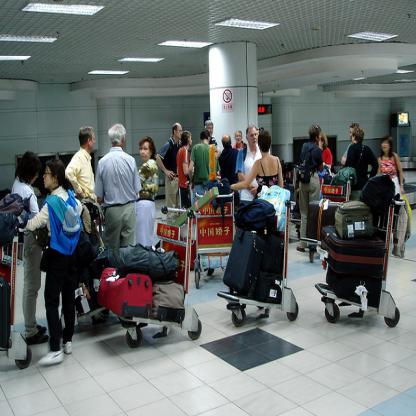backpack: (115, 243, 176, 282), (358, 173, 396, 218), (0, 192, 30, 246), (152, 282, 185, 324), (234, 199, 276, 231), (297, 148, 311, 183), (337, 169, 357, 184)
handbag: (352, 142, 365, 169), (394, 154, 405, 183)
suitcase: (320, 224, 388, 278), (222, 228, 267, 299), (97, 267, 153, 318), (326, 265, 383, 308), (334, 201, 377, 242), (305, 200, 340, 241), (0, 276, 12, 349)
